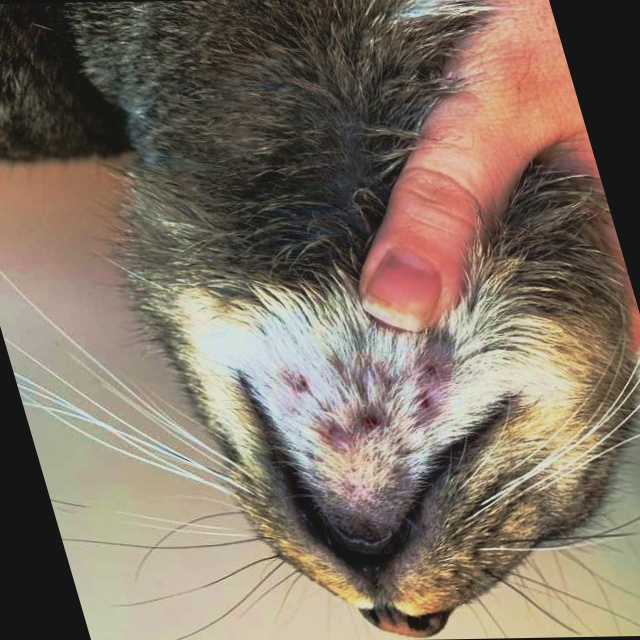acne: (267, 336, 457, 449)
